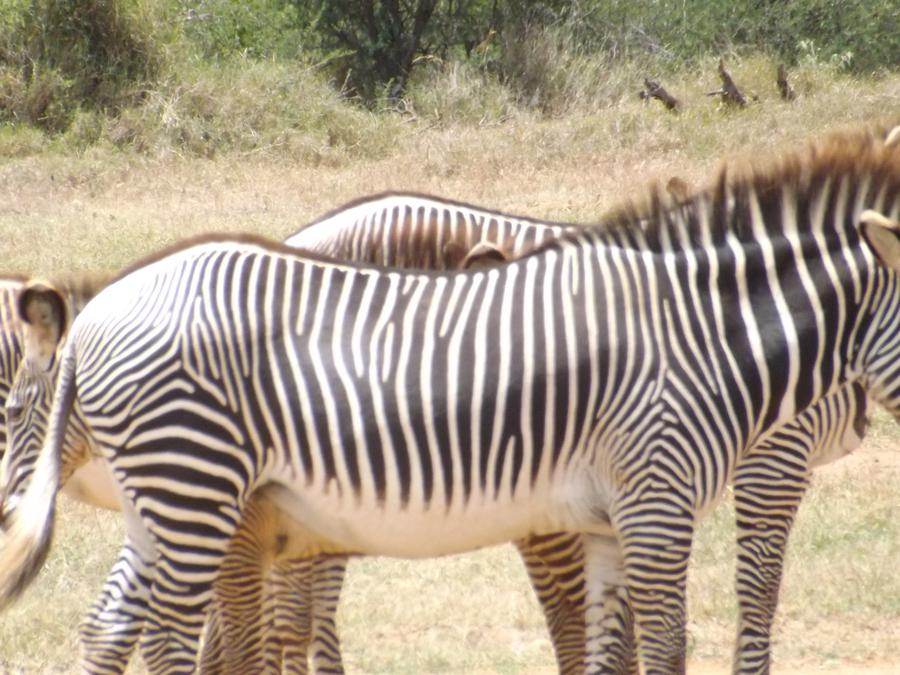zebra_grevys: (68, 221, 701, 512)
